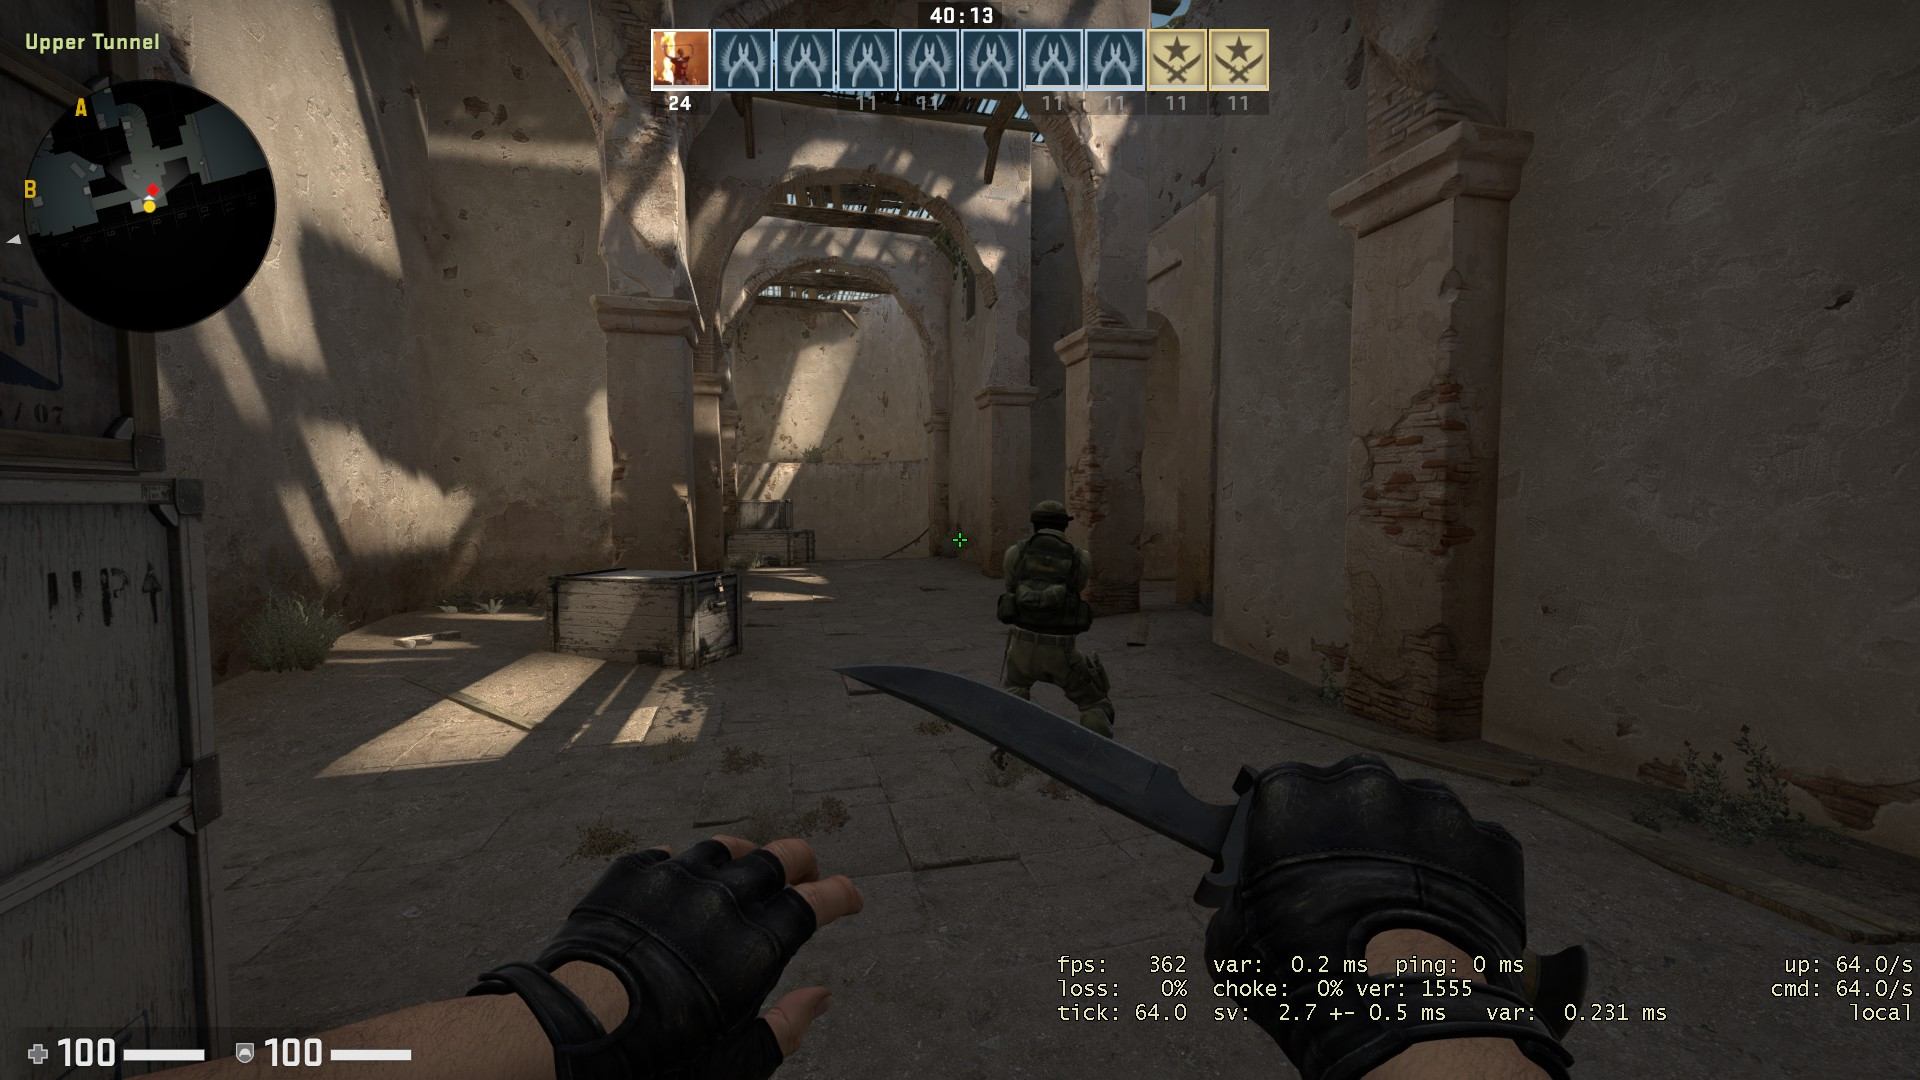player: (984, 494, 1123, 780)
